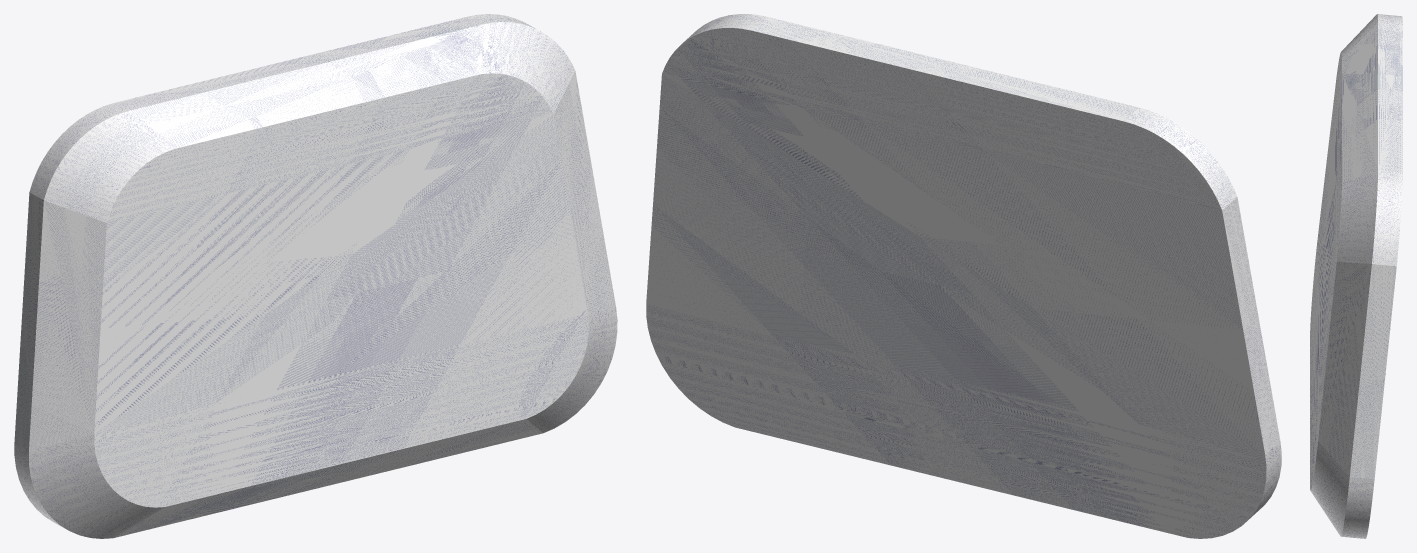
Rendered from original-1.obj.
The picture shows the model from 3 angles, left to right: view 1: azimuth 30°, elevation 25°; view 2: azimuth 150°, elevation 25°; view 3: azimuth 270°, elevation 25°; orthographic projection. The views are drawn at different scales.
Parts seen in each view (by area): view 1: Group2/mesh1/mesh1-geometry#mesh1-geometry; view 2: Group2/mesh1/mesh1-geometry#mesh1-geometry; view 3: Group2/mesh1/mesh1-geometry#mesh1-geometry.
Part boxes in pixels (x1,y1,x2,y2): Group2/mesh1/mesh1-geometry#mesh1-geometry: (14,14,617,538); Group2/mesh1/mesh1-geometry#mesh1-geometry: (646,14,1281,538); Group2/mesh1/mesh1-geometry#mesh1-geometry: (1310,14,1402,538).
Size of the model in its own units: 0.7496 by 0.4924 by 0.1194.
